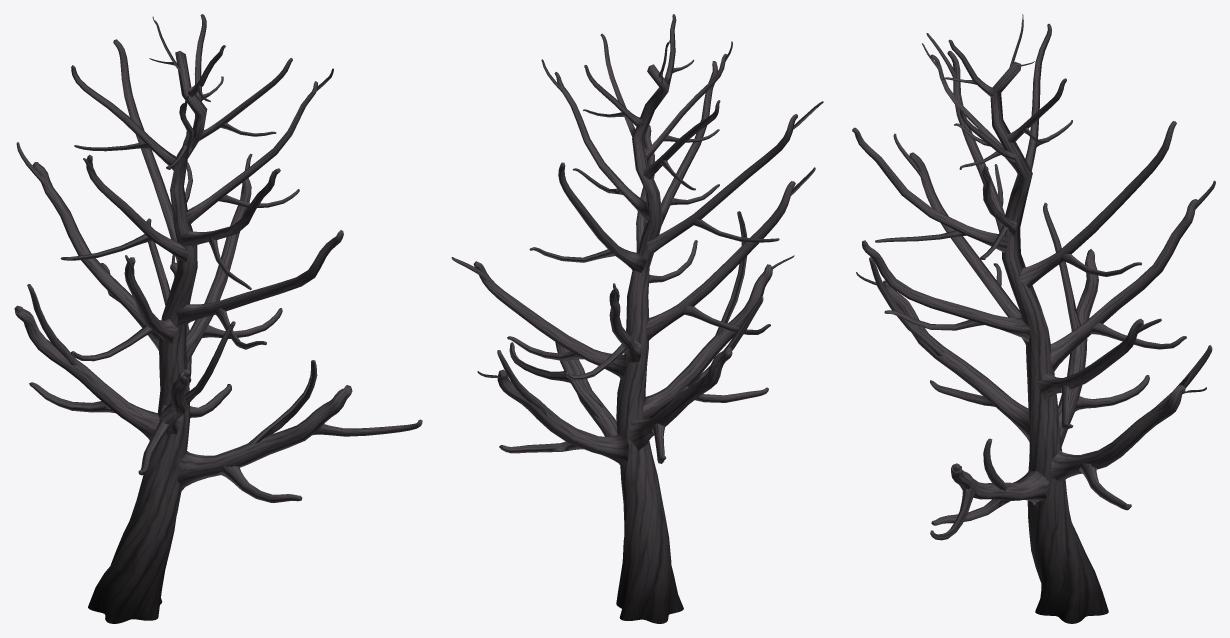
Rendered from DeadTree_2.gltf.
The picture shows the model from 3 angles, left to right: view 1: azimuth 30°, elevation 25°; view 2: azimuth 150°, elevation 25°; view 3: azimuth 270°, elevation 25°; orthographic projection. The views are drawn at different scales.
Visible parts, largest first — view 1: DeadTree_2; view 2: DeadTree_2; view 3: DeadTree_2.
Boxes of the visible parts, bbox=[...] form: DeadTree_2: bbox=[14, 14, 422, 623]; DeadTree_2: bbox=[451, 14, 823, 623]; DeadTree_2: bbox=[852, 14, 1215, 623].
Size of the model in its own units: 6.73 by 11.49 by 6.38.
1 material, 1 textured.
